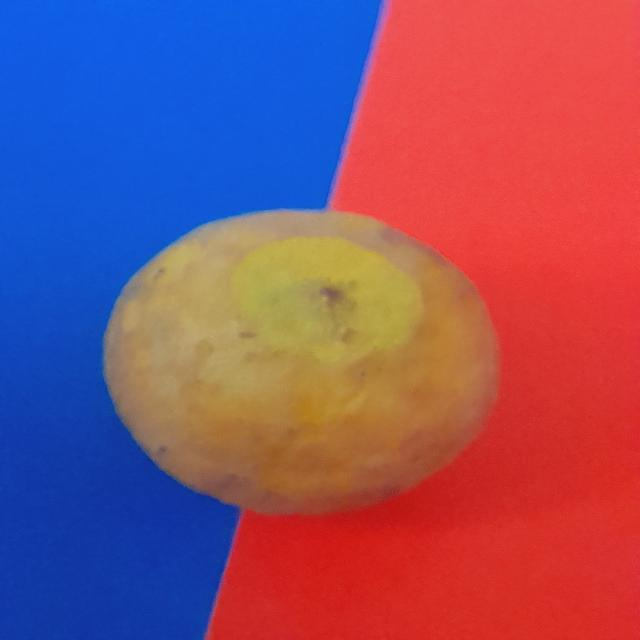thrips: (77, 197, 527, 526)
